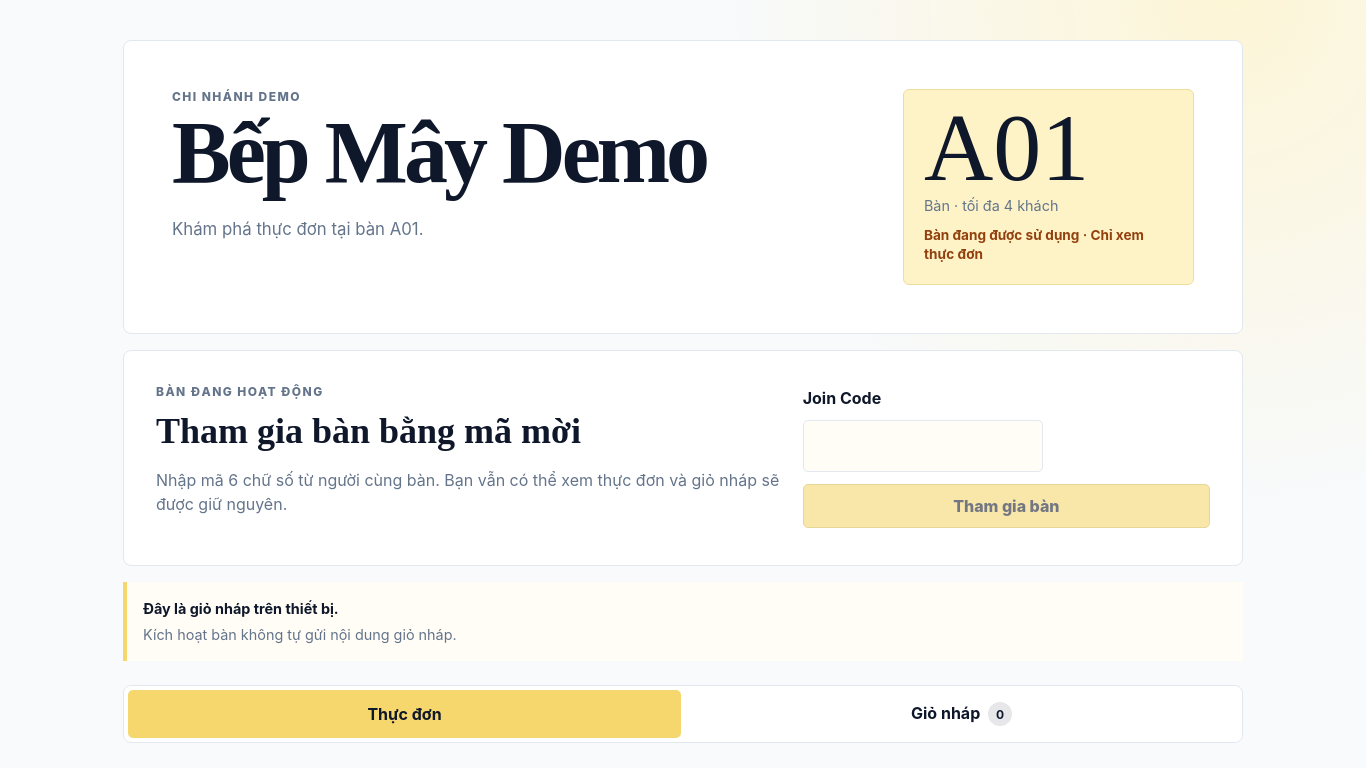
Test: M2.7 Host and Join experience › recovers guest CSRF once without changing the Join operation key
Expected: the heading "Tham gia bàn bằng mã mời" is shown, [156,411,581,451]
Type "482193" into the field labelled "Join Code".
click(923, 446); type("482193")  # box [803,420,1043,472]
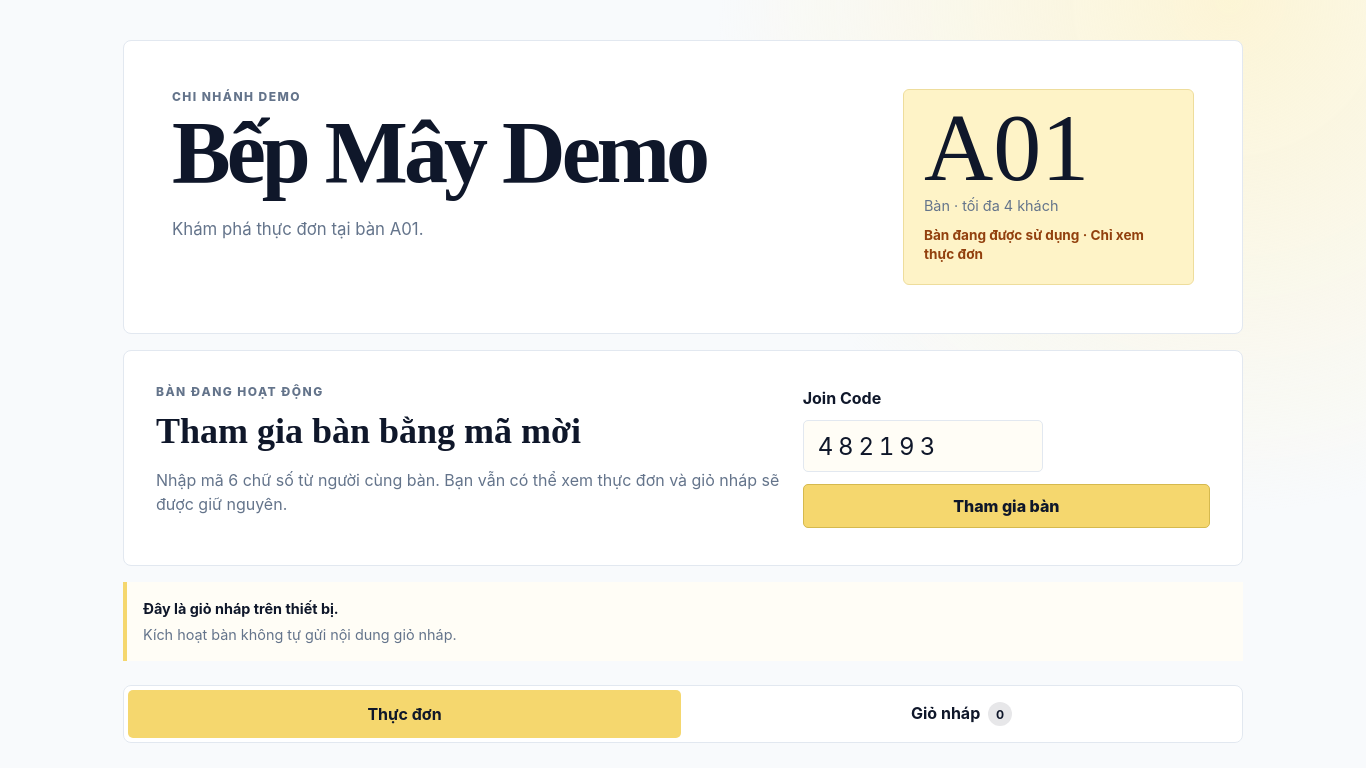
Click the button "Tham gia bàn".
click(1006, 506)  # box [803,484,1210,528]
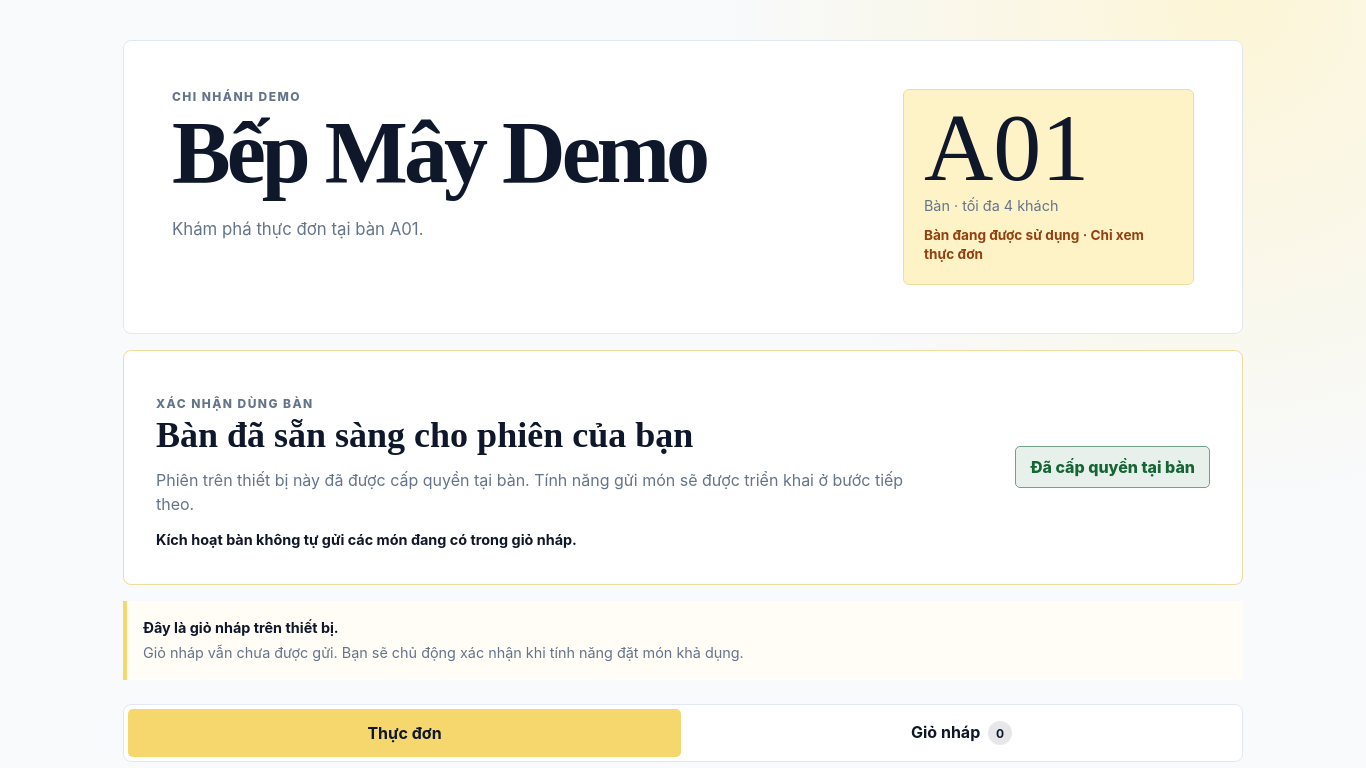
Result: the text "Đã cấp quyền tại bàn" is shown at [1015,446,1210,488]
